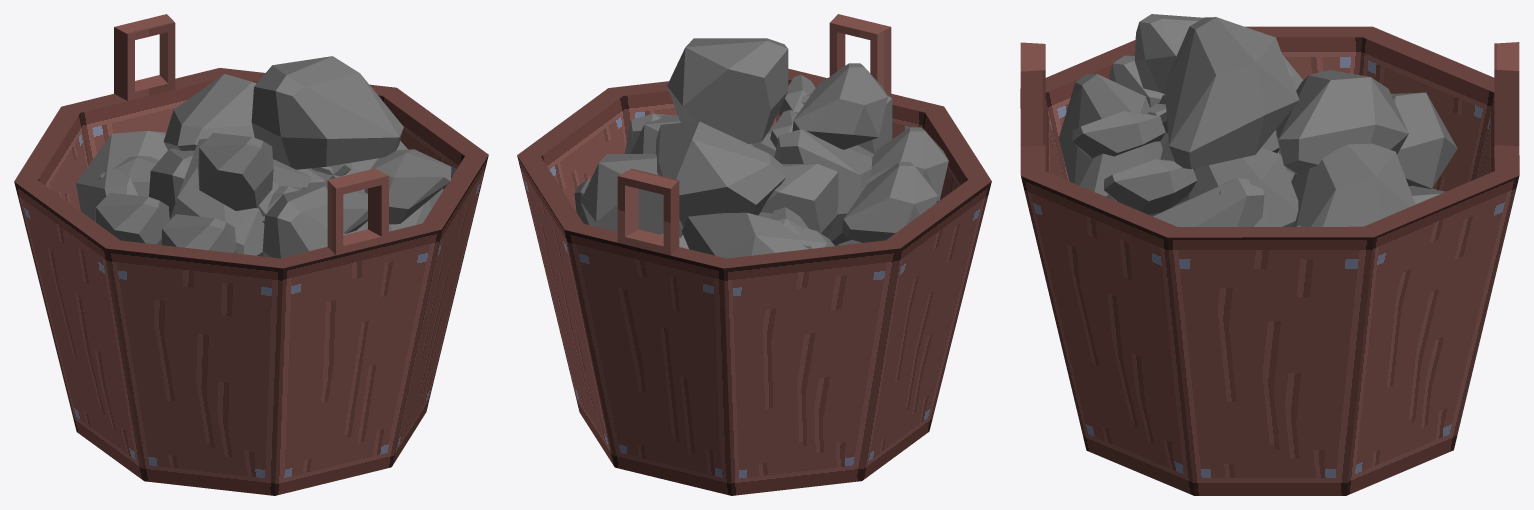
The model's file is BaldePedra.fbx.
3 renders of one model, left to right at view 1: azimuth 30°, elevation 25°; view 2: azimuth 150°, elevation 25°; view 3: azimuth 270°, elevation 25°, orthographic. The views are drawn at different scales.
Visible parts, largest first — view 1: Cylinder.001; view 2: Cylinder.001; view 3: Cylinder.001.
Part boxes in pixels (bbox=[...]): Cylinder.001: bbox=[14, 14, 488, 495]; Cylinder.001: bbox=[517, 14, 991, 495]; Cylinder.001: bbox=[1020, 14, 1519, 495].
Bounding box in the file's own units: 150 × 135 × 150.
2 materials, 1 textured.
